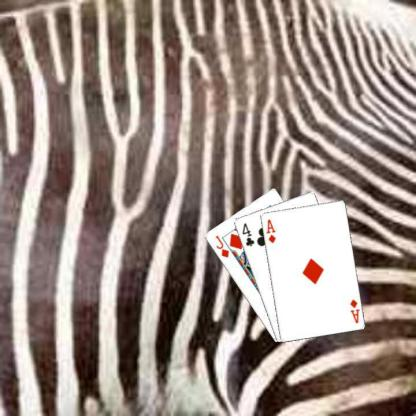4C: (240, 220, 256, 247)
AD: (263, 217, 277, 244), (347, 297, 360, 324)
JD: (213, 233, 230, 259)
